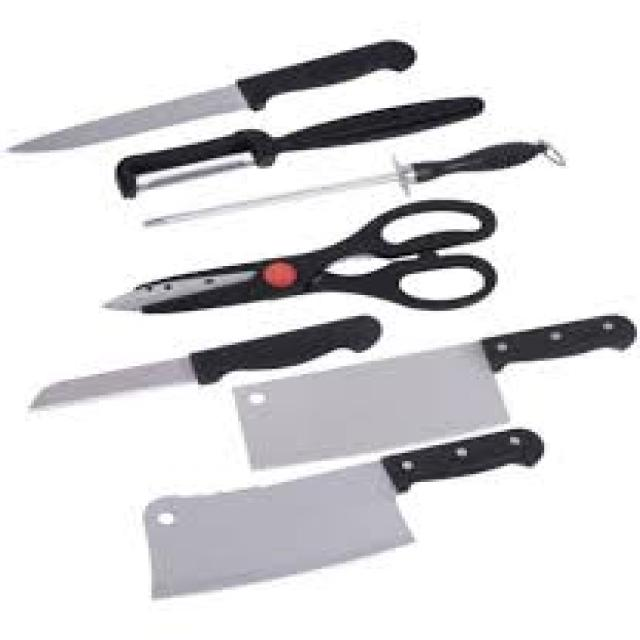knives: (86, 442, 581, 610), (216, 361, 556, 473), (9, 65, 291, 146)
